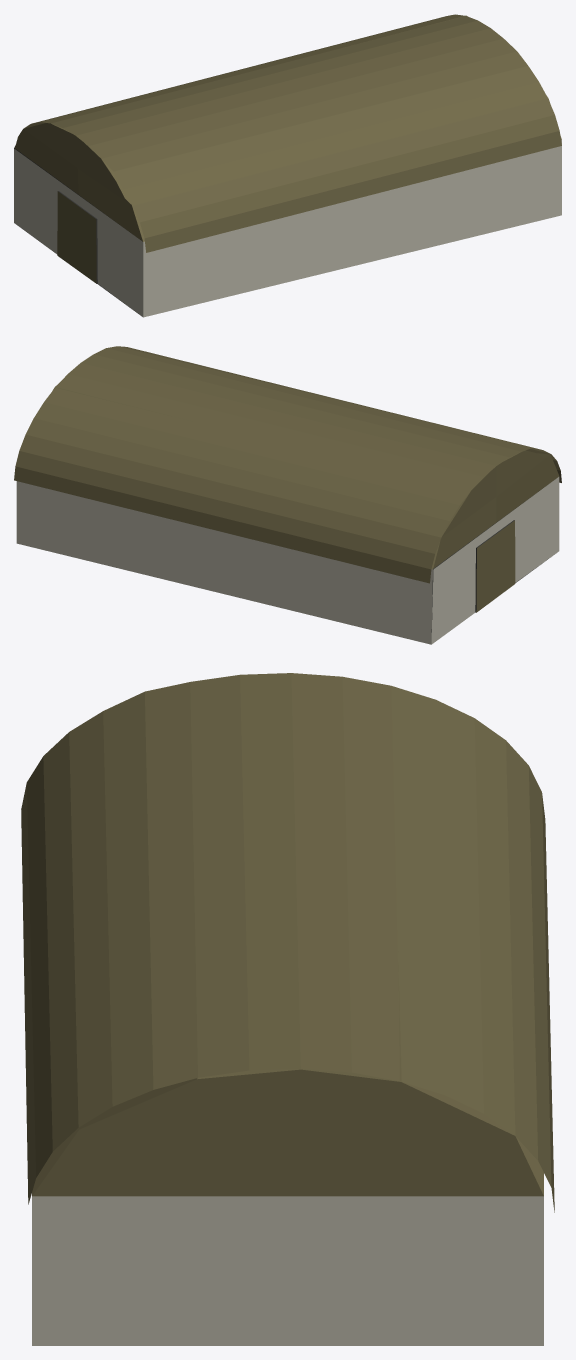
File: wirehouse.glb
3 views of the same model, one above another, from view 1: azimuth 30°, elevation 25°; view 2: azimuth 150°, elevation 25°; view 3: azimuth 270°, elevation 25° (orthographic). The views are drawn at different scales.
Visible parts, largest first — view 1: Cube; view 2: Cube; view 3: Cube.
Boxes of the visible parts, x1,y1,x2,y2 form: Cube: [14, 14, 561, 317]; Cube: [14, 346, 561, 644]; Cube: [21, 673, 554, 1345].
Bounding box in the file's own units: 6.26 × 1.97 × 3.47.
